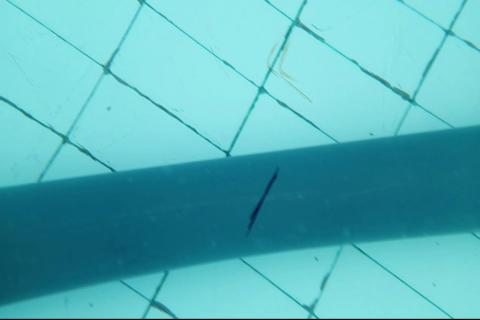keretakan: (241, 165, 280, 239)
